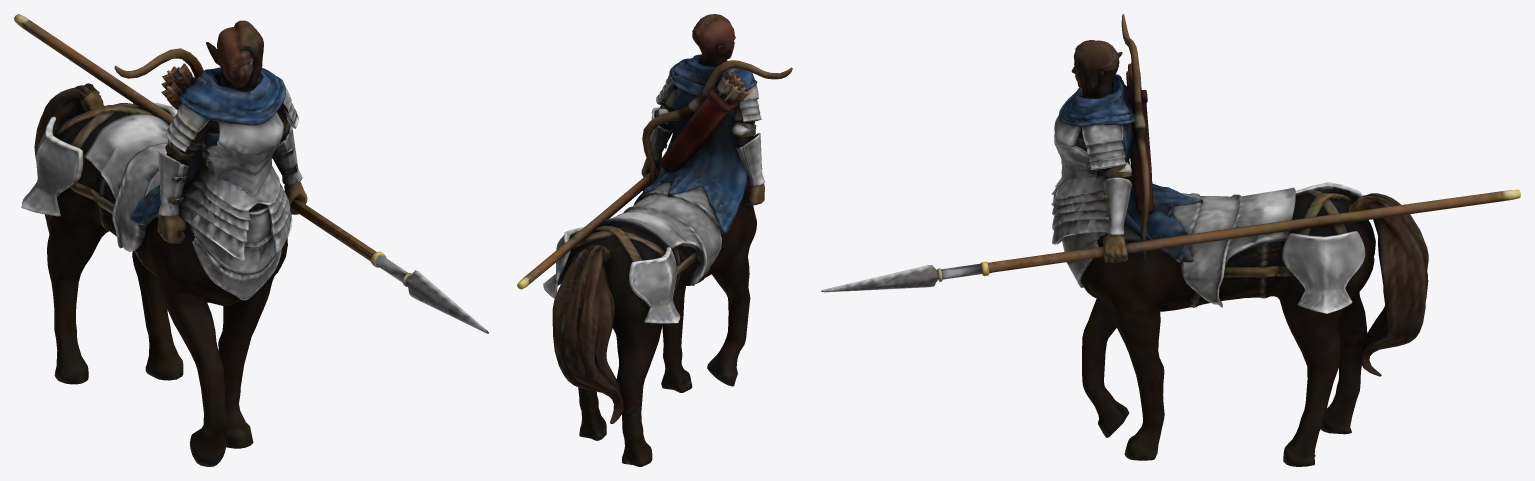
Rendered from MZ4250 - Centaur Trooper Female _2025_1.glb.
3 views of the same model, side by side, from view 1: azimuth 30°, elevation 25°; view 2: azimuth 150°, elevation 25°; view 3: azimuth 270°, elevation 25° (orthographic). The views are drawn at different scales.
Parts seen in each view (by area): view 1: Centaur Female Trooper 2025.001; view 2: Centaur Female Trooper 2025.001; view 3: Centaur Female Trooper 2025.001.
Boxes of the visible parts, bbox=[...] form: Centaur Female Trooper 2025.001: bbox=[14, 14, 488, 466]; Centaur Female Trooper 2025.001: bbox=[517, 14, 792, 466]; Centaur Female Trooper 2025.001: bbox=[821, 14, 1520, 466].
Bounding box in the file's own units: 27.56 × 55.17 × 85.86.
Materials: 1 (1 with a texture image).
